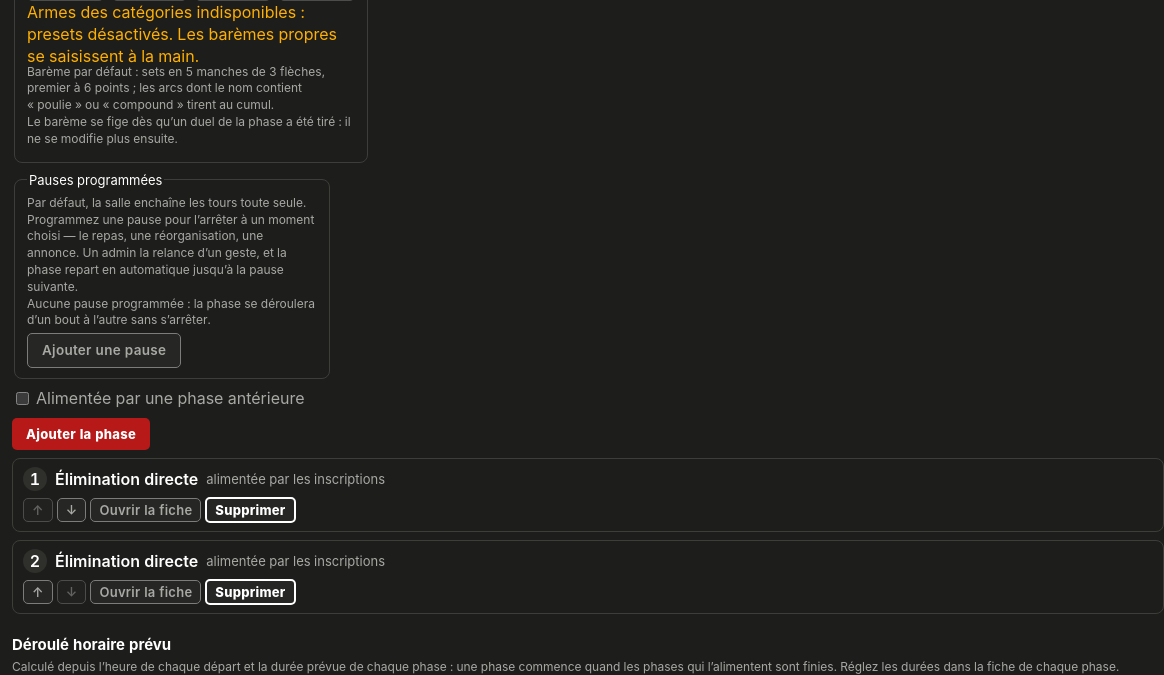
Test: la fiche d’une phase › n’ouvre que la fiche cliquée, pas celles des voisines
(page scrolled)
Click the 1st button "Ouvrir la fiche": [146, 510] box [90,498,201,522]
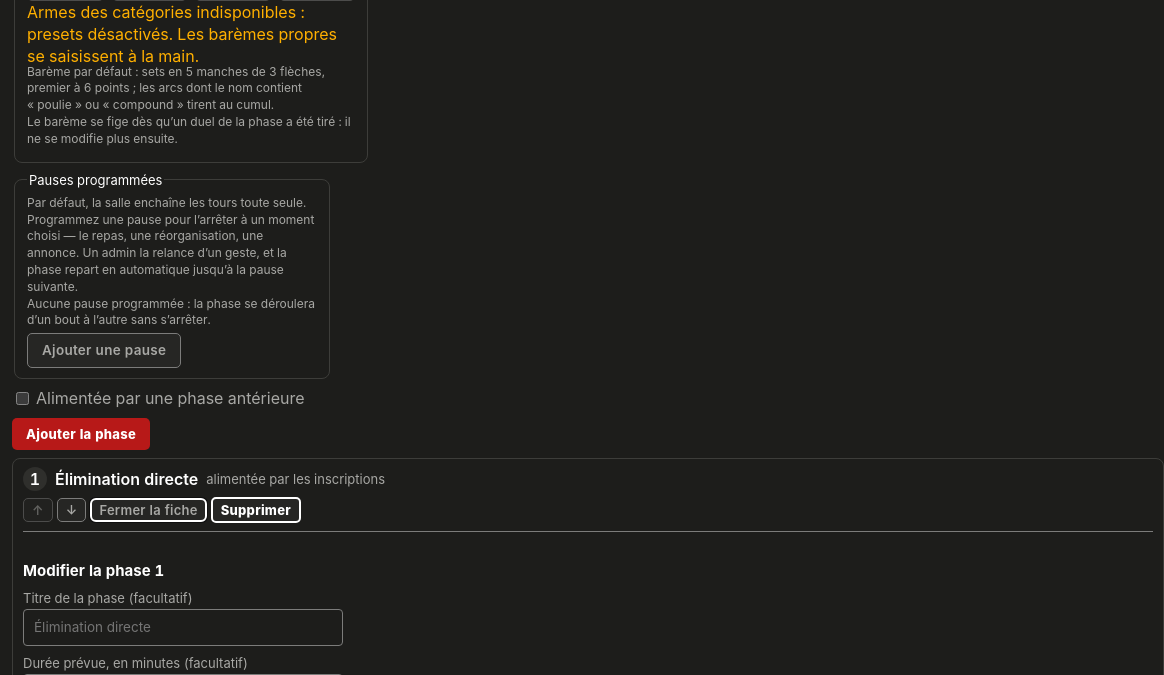
Expected: the field labelled "Titre de la phase (facultatif)" is shown, [23,609,343,646]
